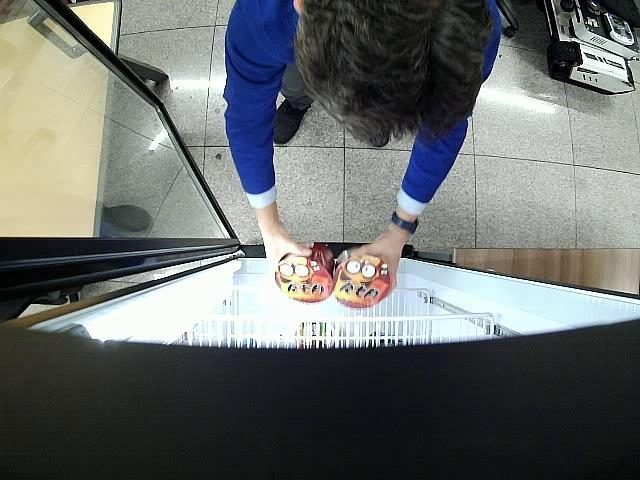05_nuguri_L: (274, 243, 334, 303), (334, 256, 392, 308)
